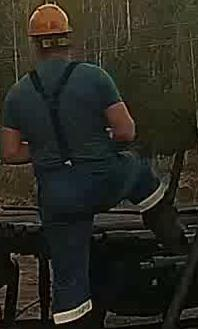helmet: (26, 3, 73, 41)
